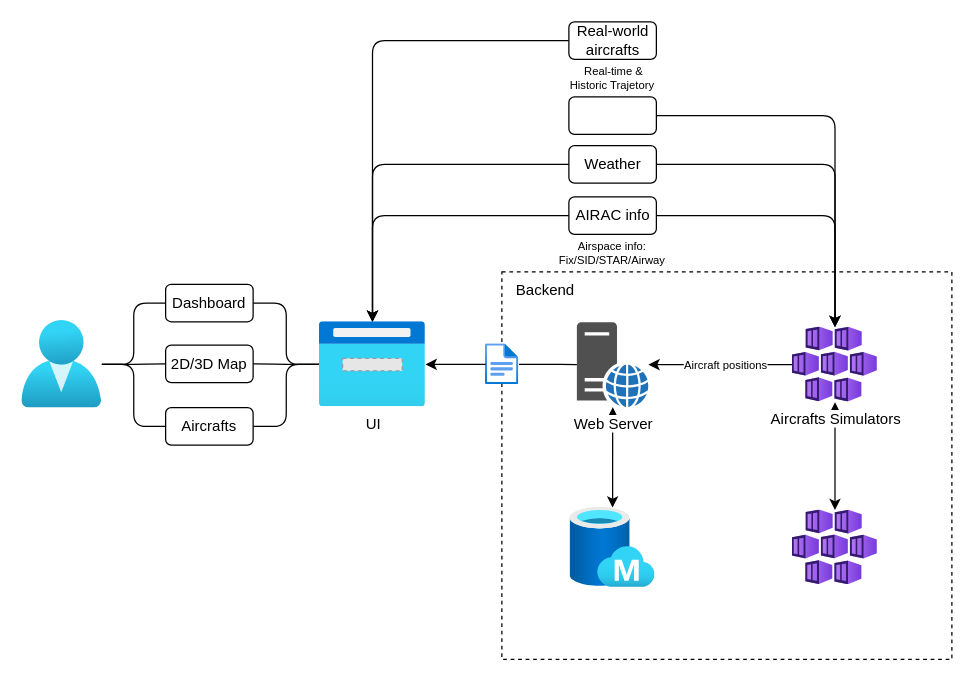
This 974x681 diagram has some shape labels left out. Grey dashed boxes stand in for pictures. Each missing label, with the centre of its shape:
"Aircrafts performance" goes at point (612, 115).
"ATM/UTM Simulators" goes at point (834, 546).
"Database" goes at point (612, 547).
"JSON files of aircraft positions" goes at point (501, 363).
"User" goes at point (61, 364).
